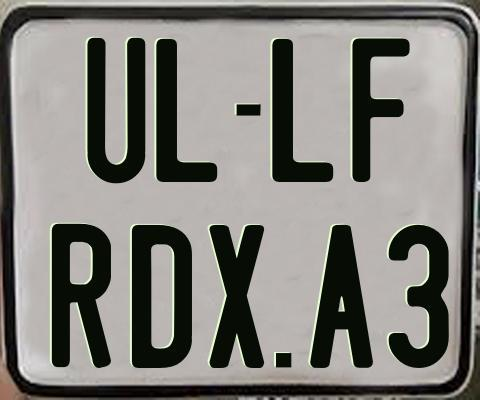3: (389, 224, 453, 372)
A: (309, 223, 376, 372)
D: (129, 224, 194, 373)
F: (351, 37, 412, 185)
L: (269, 39, 335, 182), (153, 37, 214, 186)
R: (51, 221, 110, 366)
U: (87, 38, 150, 185)
X: (210, 224, 266, 368)
